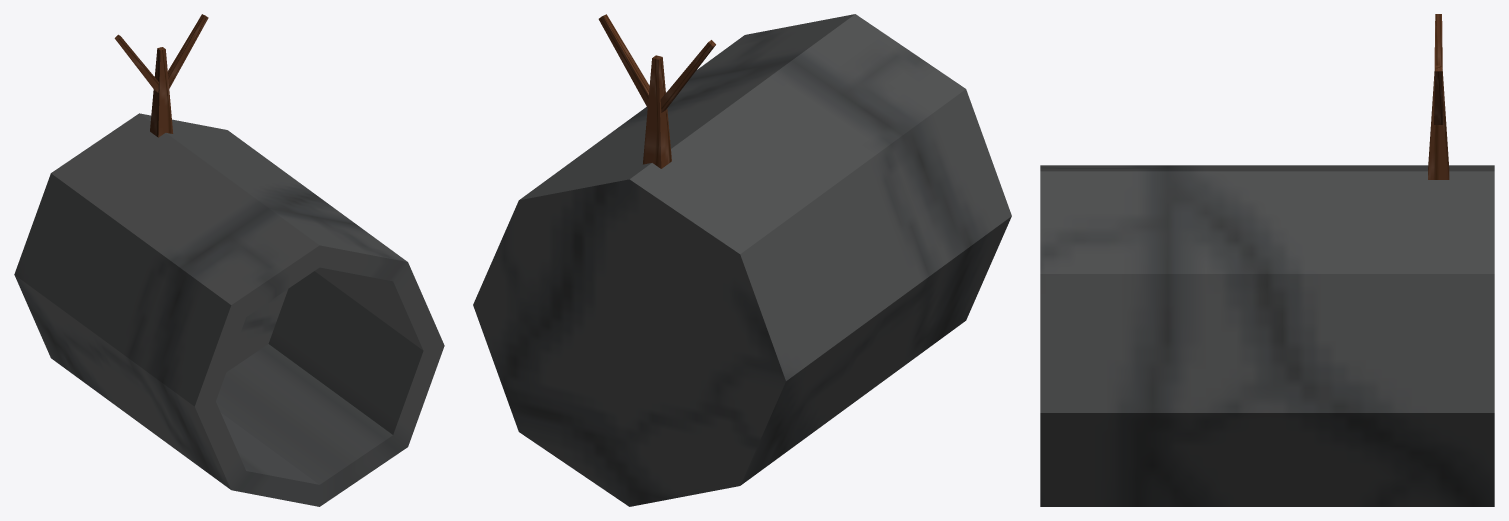
File: bombCannon.fbx
3 renders of one model, left to right at view 1: azimuth 30°, elevation 25°; view 2: azimuth 150°, elevation 25°; view 3: azimuth 270°, elevation 25°, orthographic. The views are drawn at different scales.
Visible parts, largest first — view 1: Cylinder; view 2: Cylinder; view 3: Cylinder.
Boxes of the visible parts, x1=… form: Cylinder: x1=14, y1=14, x2=444, y2=506; Cylinder: x1=473, y1=14, x2=1011, y2=506; Cylinder: x1=1040, y1=14, x2=1494, y2=506.
Size of the model in its own units: 160 by 224 by 200.
Materials: 1 (1 with a texture image).
